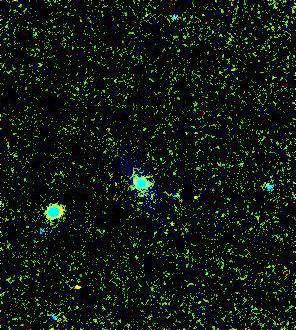star: (60, 273, 90, 303)
